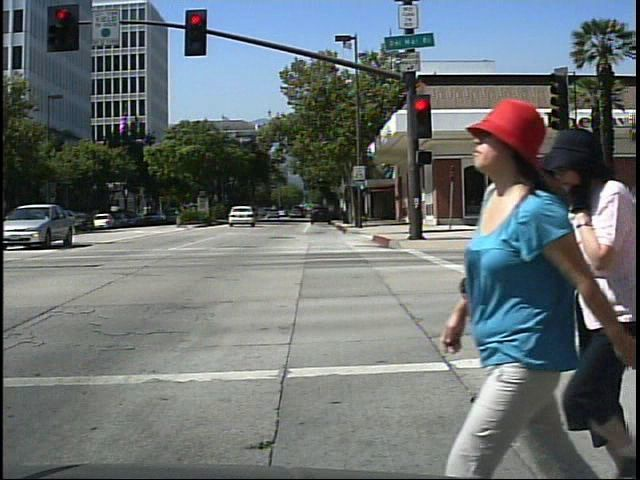person: (454, 75, 636, 480)
